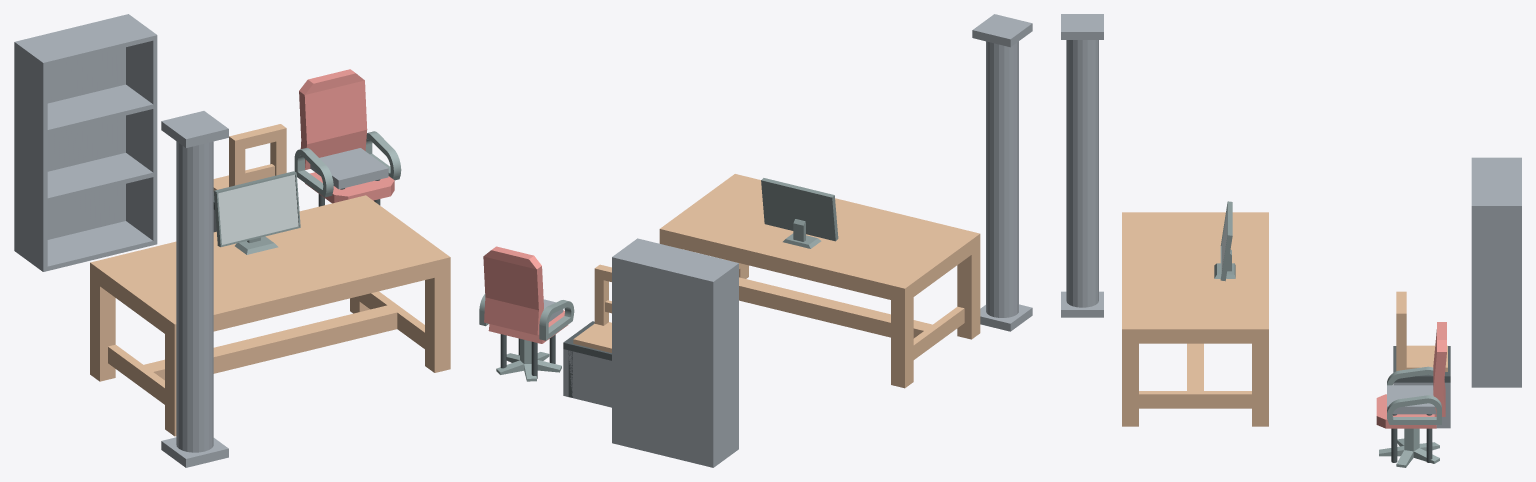
The picture shows the model from 3 angles, left to right: view 1: azimuth 30°, elevation 25°; view 2: azimuth 150°, elevation 25°; view 3: azimuth 270°, elevation 25°; orthographic projection. The views are drawn at different scales.
Parts seen in each view (by area): view 1: table_green__table(Clone), column_cyan__column_cyan shaft, shelf_orange__shelf_orange back, deskchair_black__chair, shelf_orange__shelf_orange side_l, monitor_gray__computerScreen(Clone), shelf_orange__shelf_orange side_r, shelf_orange__shelf_orange board3, shelf_orange__shelf_orange board1, shelf_orange__shelf_orange board2, shelf_orange__shelf_orange board0, chair_cyan__chair(Clone) (+3 smaller); view 2: table_green__table(Clone), shelf_orange__shelf_orange back, column_cyan__column_cyan shaft, deskchair_black__chair, shelf_orange__shelf_orange side_l, monitor_gray__computerScreen(Clone), shelf_orange__shelf_orange board3, crate_red__crate_red shell, chair_cyan__chair(Clone), column_cyan__column_cyan capital, deskchair_black__chairDesk(Clone), shelf_orange__shelf_orange side_r (+1 smaller); view 3: table_green__table(Clone), shelf_orange__shelf_orange side_r, column_cyan__column_cyan shaft, deskchair_black__chair, shelf_orange__shelf_orange board3, chair_cyan__chair(Clone), column_cyan__column_cyan capital, deskchair_black__chairDesk(Clone), stool_purple__stool_purple seat, monitor_gray__computerScreen(Clone), column_cyan__column_cyan plinth, crate_red__crate_red shell (+1 smaller).
Part boxes in pixels (x1=…): table_green__table(Clone): x1=90, y1=195, x2=450, y2=436; column_cyan__column_cyan shaft: x1=176, y1=141, x2=213, y2=452; shelf_orange__shelf_orange back: x1=19, y1=15, x2=125, y2=239; deskchair_black__chair: x1=294, y1=69, x2=401, y2=203; shelf_orange__shelf_orange side_l: x1=14, y1=41, x2=47, y2=271; monitor_gray__computerScreen(Clone): x1=214, y1=171, x2=300, y2=254; shelf_orange__shelf_orange side_r: x1=125, y1=14, x2=157, y2=245; shelf_orange__shelf_orange board3: x1=21, y1=16, x2=153, y2=66; shelf_orange__shelf_orange board1: x1=47, y1=153, x2=153, y2=202; shelf_orange__shelf_orange board2: x1=47, y1=84, x2=153, y2=134; shelf_orange__shelf_orange board0: x1=47, y1=221, x2=153, y2=270; chair_cyan__chair(Clone): x1=213, y1=124, x2=286, y2=191; table_green__table(Clone): x1=659, y1=174, x2=980, y2=388; shelf_orange__shelf_orange back: x1=615, y1=257, x2=710, y2=466; column_cyan__column_cyan shaft: x1=986, y1=41, x2=1018, y2=317; deskchair_black__chair: x1=479, y1=246, x2=574, y2=343; shelf_orange__shelf_orange side_l: x1=709, y1=262, x2=738, y2=467; monitor_gray__computerScreen(Clone): x1=761, y1=178, x2=838, y2=248; shelf_orange__shelf_orange board3: x1=617, y1=239, x2=734, y2=279; crate_red__crate_red shell: x1=563, y1=349, x2=611, y2=407; chair_cyan__chair(Clone): x1=573, y1=264, x2=611, y2=352; column_cyan__column_cyan capital: x1=972, y1=14, x2=1032, y2=47; deskchair_black__chairDesk(Clone): x1=496, y1=339, x2=561, y2=381; shelf_orange__shelf_orange side_r: x1=612, y1=238, x2=640, y2=443; table_green__table(Clone): x1=1122, y1=212, x2=1268, y2=426; shelf_orange__shelf_orange side_r: x1=1471, y1=204, x2=1521, y2=387; column_cyan__column_cyan shaft: x1=1066, y1=40, x2=1098, y2=307; deskchair_black__chair: x1=1376, y1=322, x2=1446, y2=428; shelf_orange__shelf_orange board3: x1=1471, y1=159, x2=1518, y2=203; chair_cyan__chair(Clone): x1=1396, y1=291, x2=1447, y2=371; column_cyan__column_cyan capital: x1=1061, y1=14, x2=1103, y2=39; deskchair_black__chairDesk(Clone): x1=1379, y1=428, x2=1439, y2=467; stool_purple__stool_purple seat: x1=1387, y1=385, x2=1436, y2=414; monitor_gray__computerScreen(Clone): x1=1214, y1=201, x2=1235, y2=281; column_cyan__column_cyan plinth: x1=1061, y1=291, x2=1103, y2=317; crate_red__crate_red shell: x1=1393, y1=382, x2=1450, y2=428.
Bounding box in the file's own units: 2.82 × 2.2 × 3.22.
